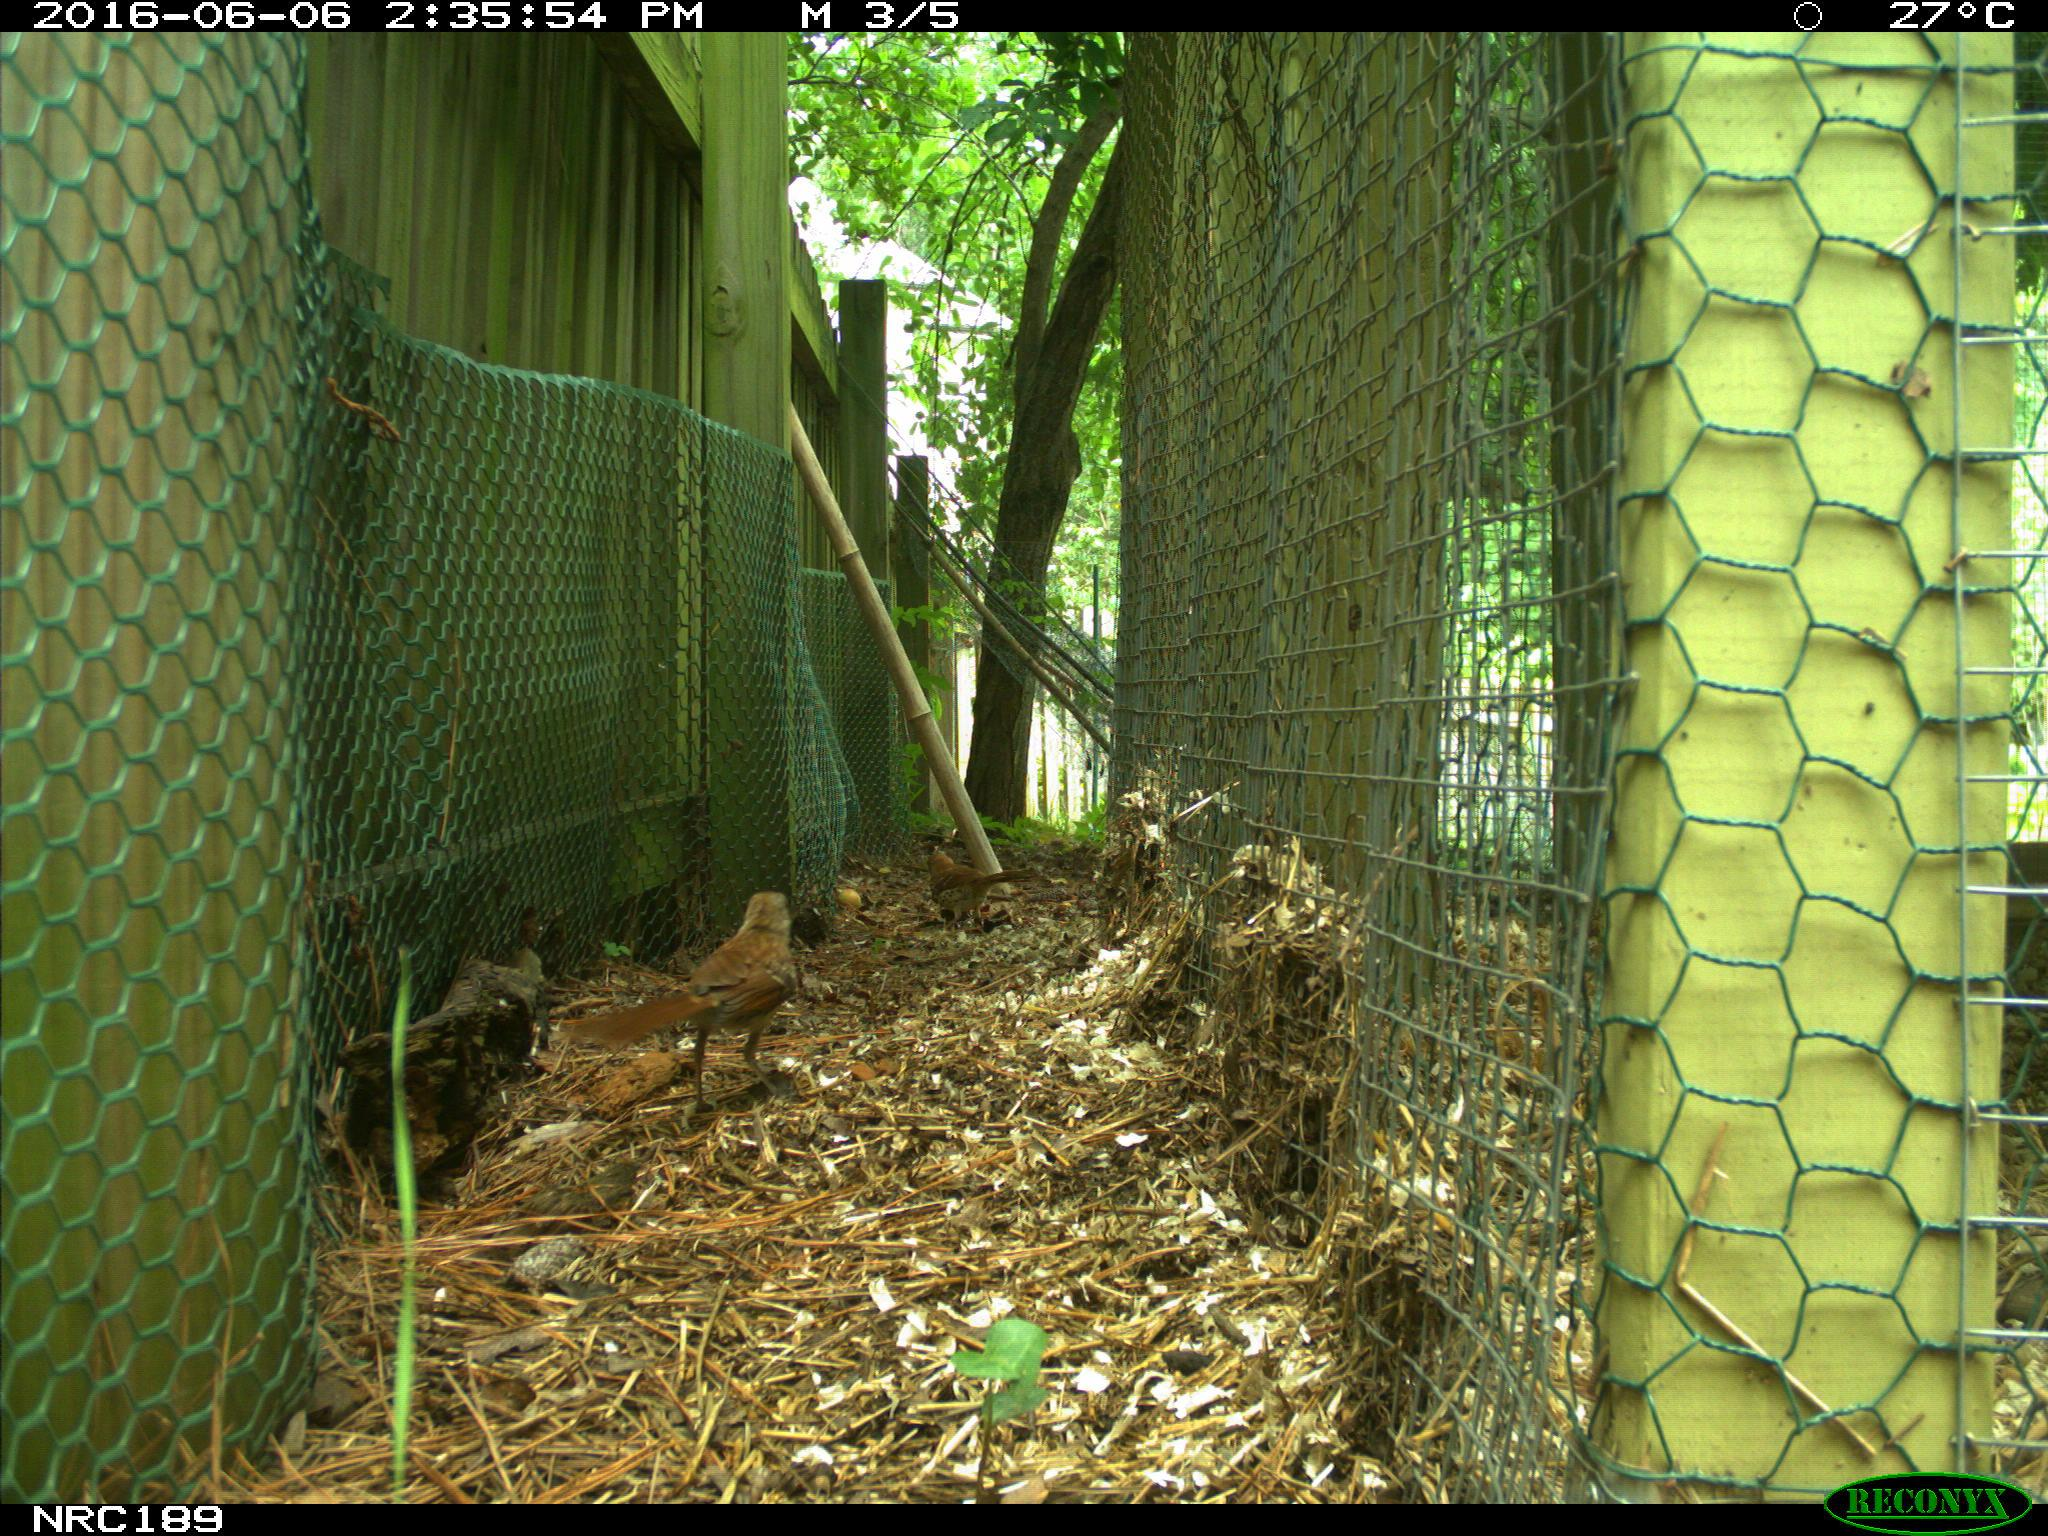Animal: (563, 891, 798, 1120)
